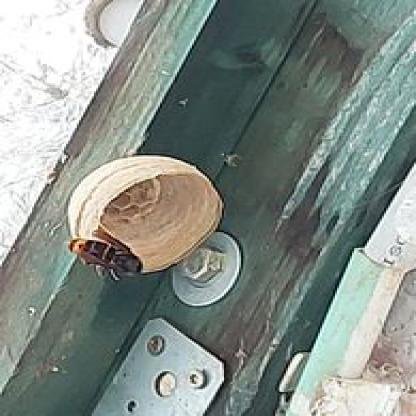Asian Hornet: (61, 225, 145, 279)
